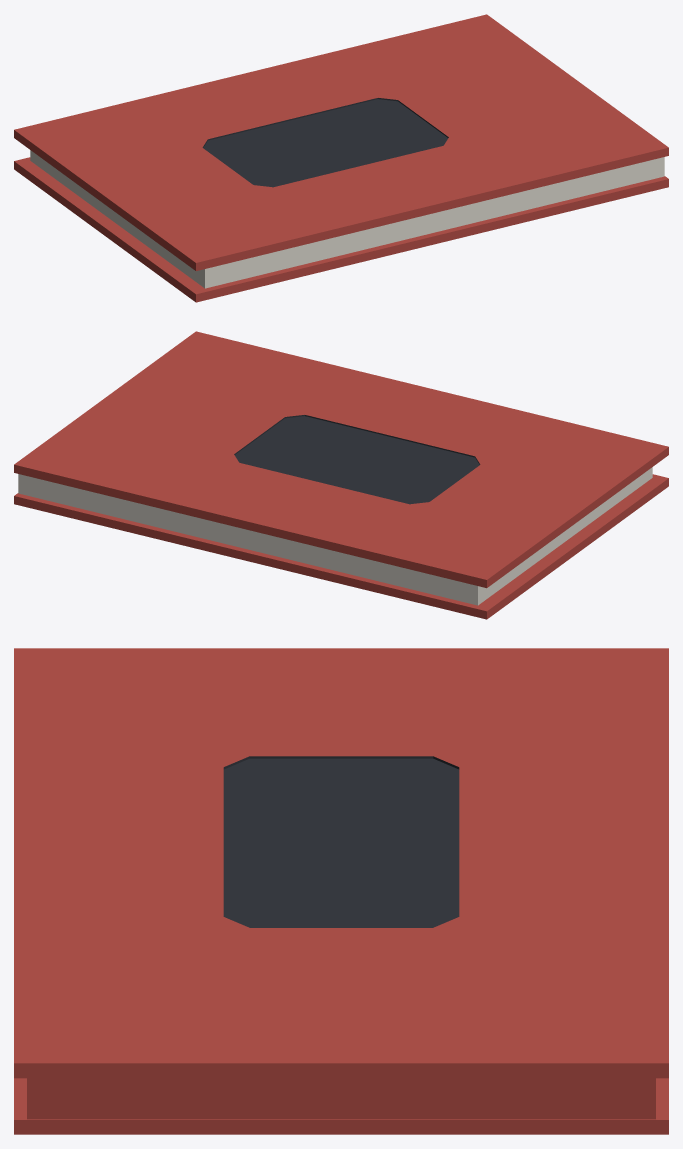
Rendered from pocket_notebook.glb.
3 renders of one model, top to bottom at view 1: azimuth 30°, elevation 25°; view 2: azimuth 150°, elevation 25°; view 3: azimuth 270°, elevation 25°, orthographic. The views are drawn at different scales.
Parts seen in each view (by area): view 1: pocket_notebook; view 2: pocket_notebook; view 3: pocket_notebook.
Part boxes in pixels (<box>): pocket_notebook: <box>14,14,668,302</box>; pocket_notebook: <box>14,331,668,619</box>; pocket_notebook: <box>14,648,668,1134</box>.
Size of the model in its own units: 0.15 by 0.012 by 0.1.
